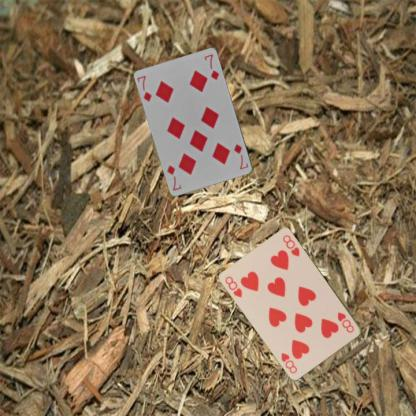7d: (231, 142, 250, 171), (135, 73, 153, 103)
8h: (222, 274, 244, 299), (335, 309, 355, 334)
